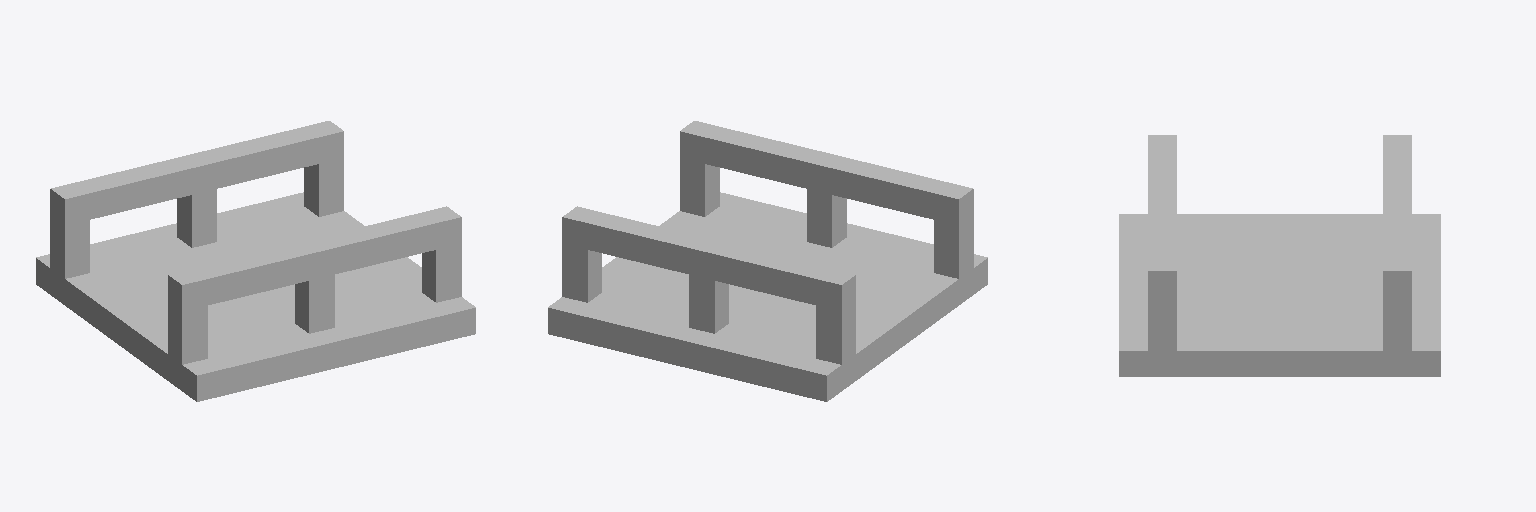
Rendered from WoodenBridge11-0.obj.
3 renders of one model, left to right at view 1: azimuth 30°, elevation 25°; view 2: azimuth 150°, elevation 25°; view 3: azimuth 270°, elevation 25°, orthographic.
Visible parts, largest first — view 1: object 1; view 2: object 1; view 3: object 1.
Part boxes in pixels (bbox=[...]): object 1: bbox=[36, 121, 475, 401]; object 1: bbox=[548, 121, 987, 401]; object 1: bbox=[1119, 135, 1440, 376].
Size of the model in its own units: 1.1 by 0.4 by 1.1.